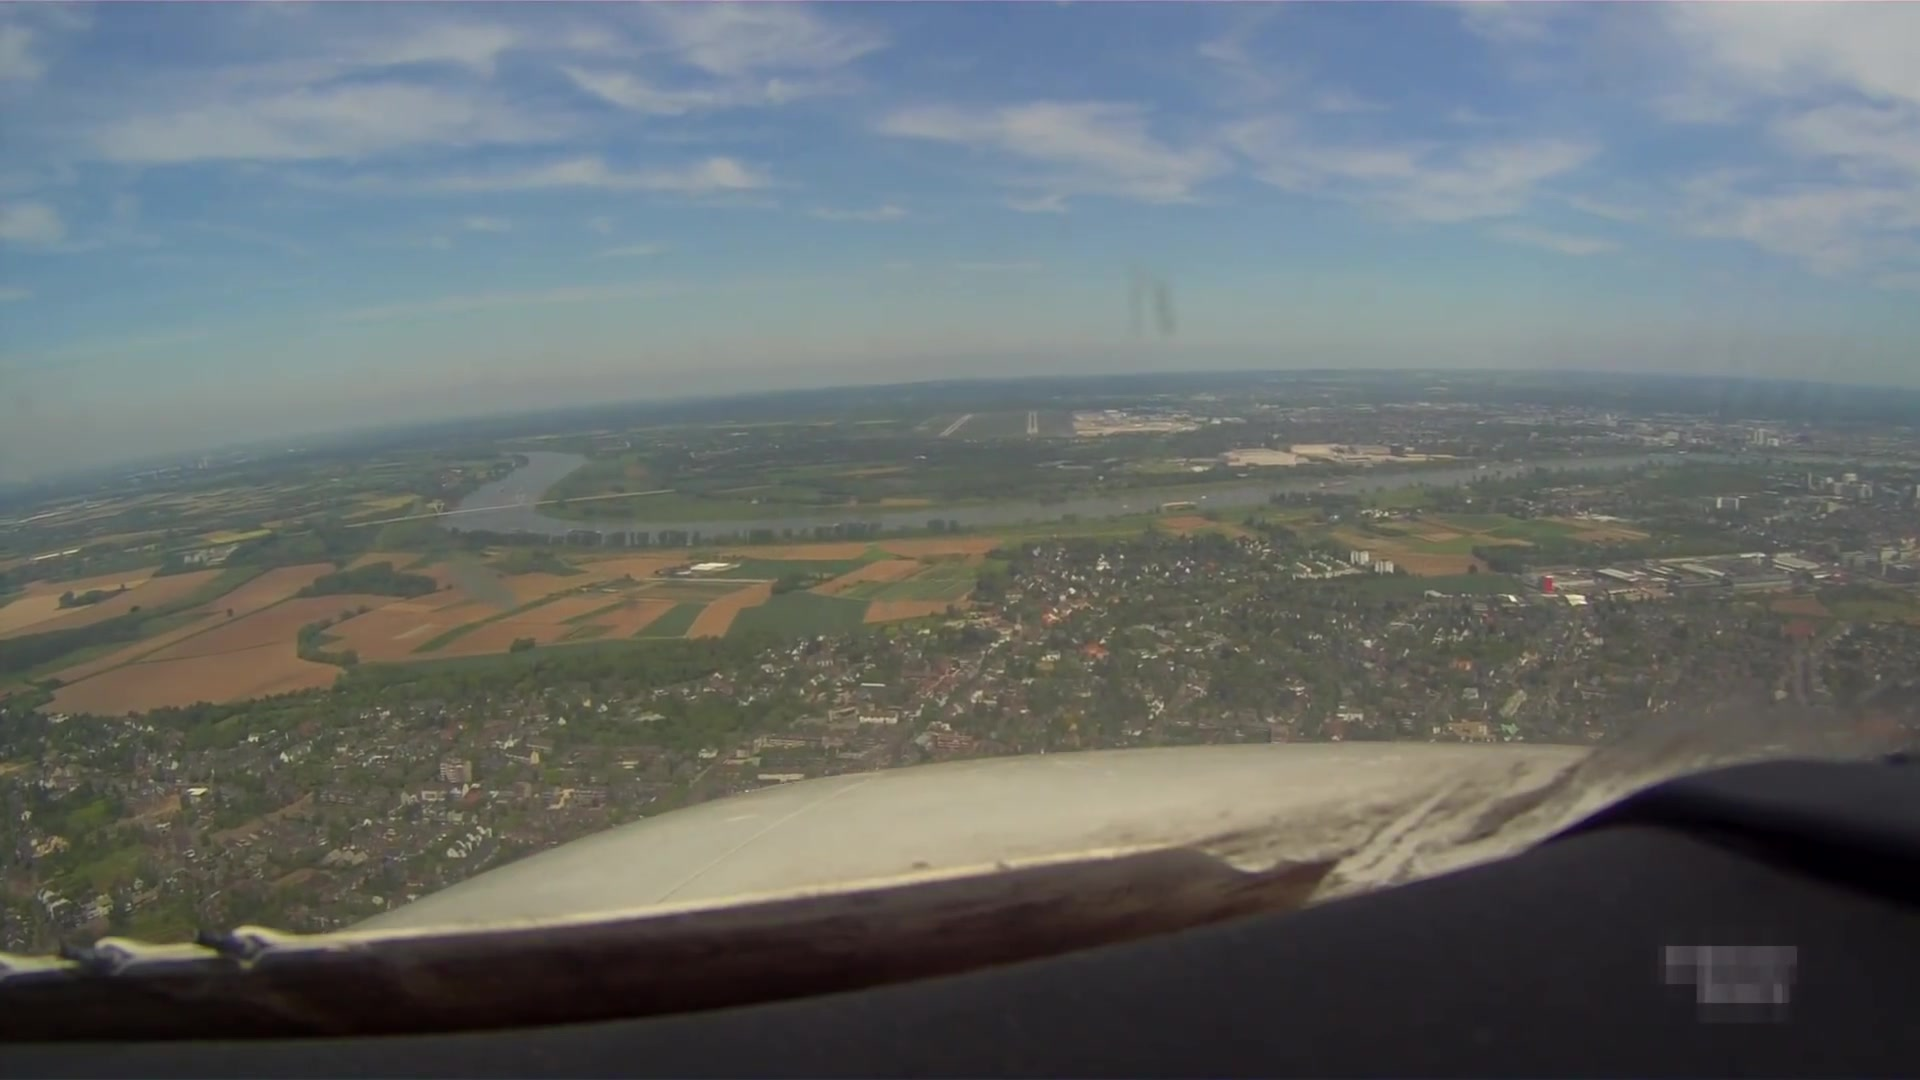runway: (940, 411, 976, 438), (1025, 409, 1039, 435)
